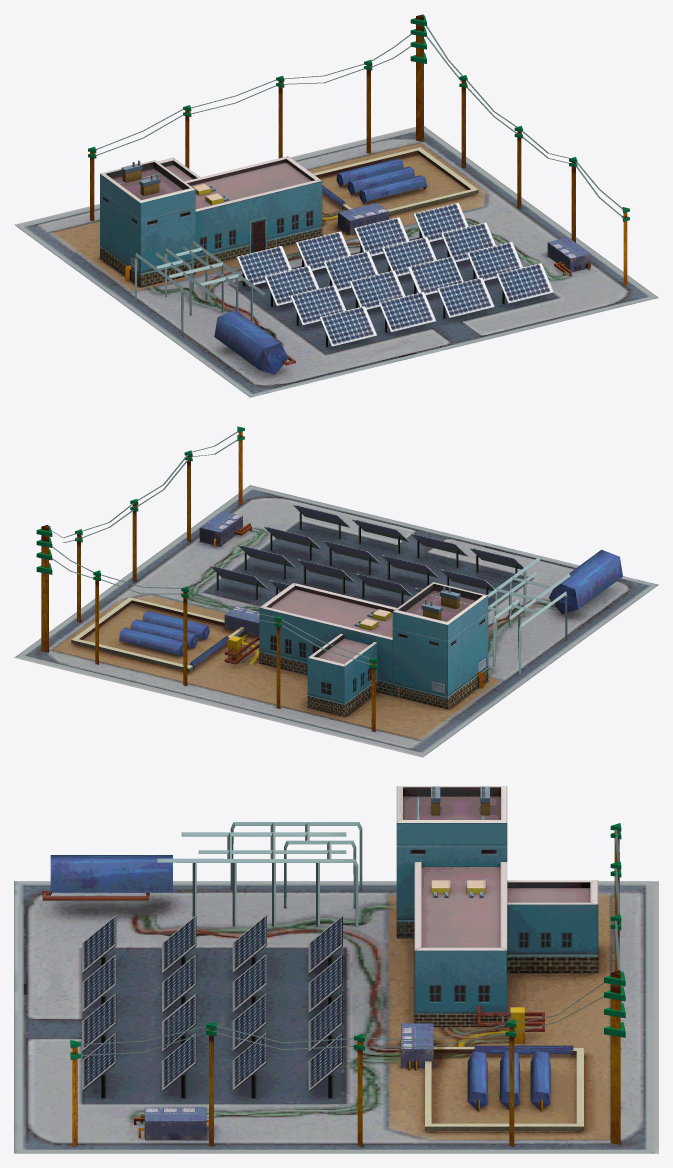
Rendered from fadianzhan.FBX.
The picture shows the model from 3 angles, top to bottom: view 1: azimuth 30°, elevation 25°; view 2: azimuth 150°, elevation 25°; view 3: azimuth 270°, elevation 25°; orthographic projection. The views are drawn at different scales.
Parts seen in each view (by area): view 1: fadianzhan; view 2: fadianzhan; view 3: fadianzhan.
Boxes of the visible parts, x1,y1,x2,y2 form: fadianzhan: [14, 14, 658, 397]; fadianzhan: [14, 426, 658, 757]; fadianzhan: [14, 786, 658, 1153].
Size of the model in its own units: 3348 by 972 by 3348.
